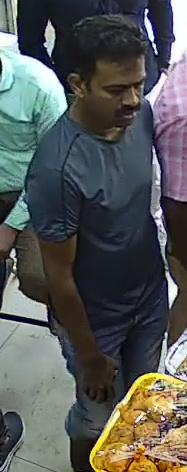no_apron: (55, 62, 170, 328)
